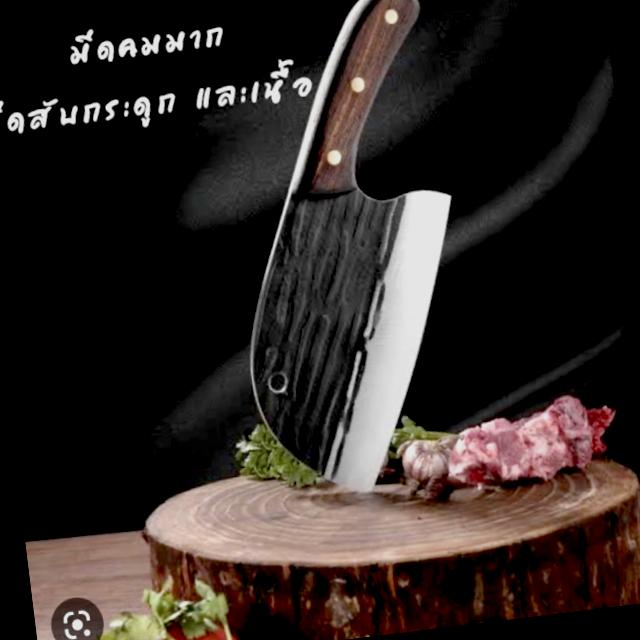knife: (181, 0, 506, 514)
